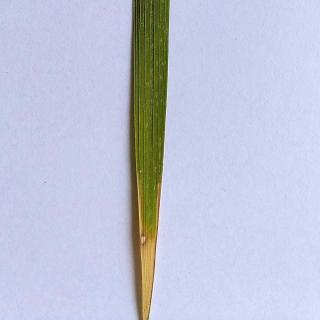Blast: (134, 227, 156, 253)
